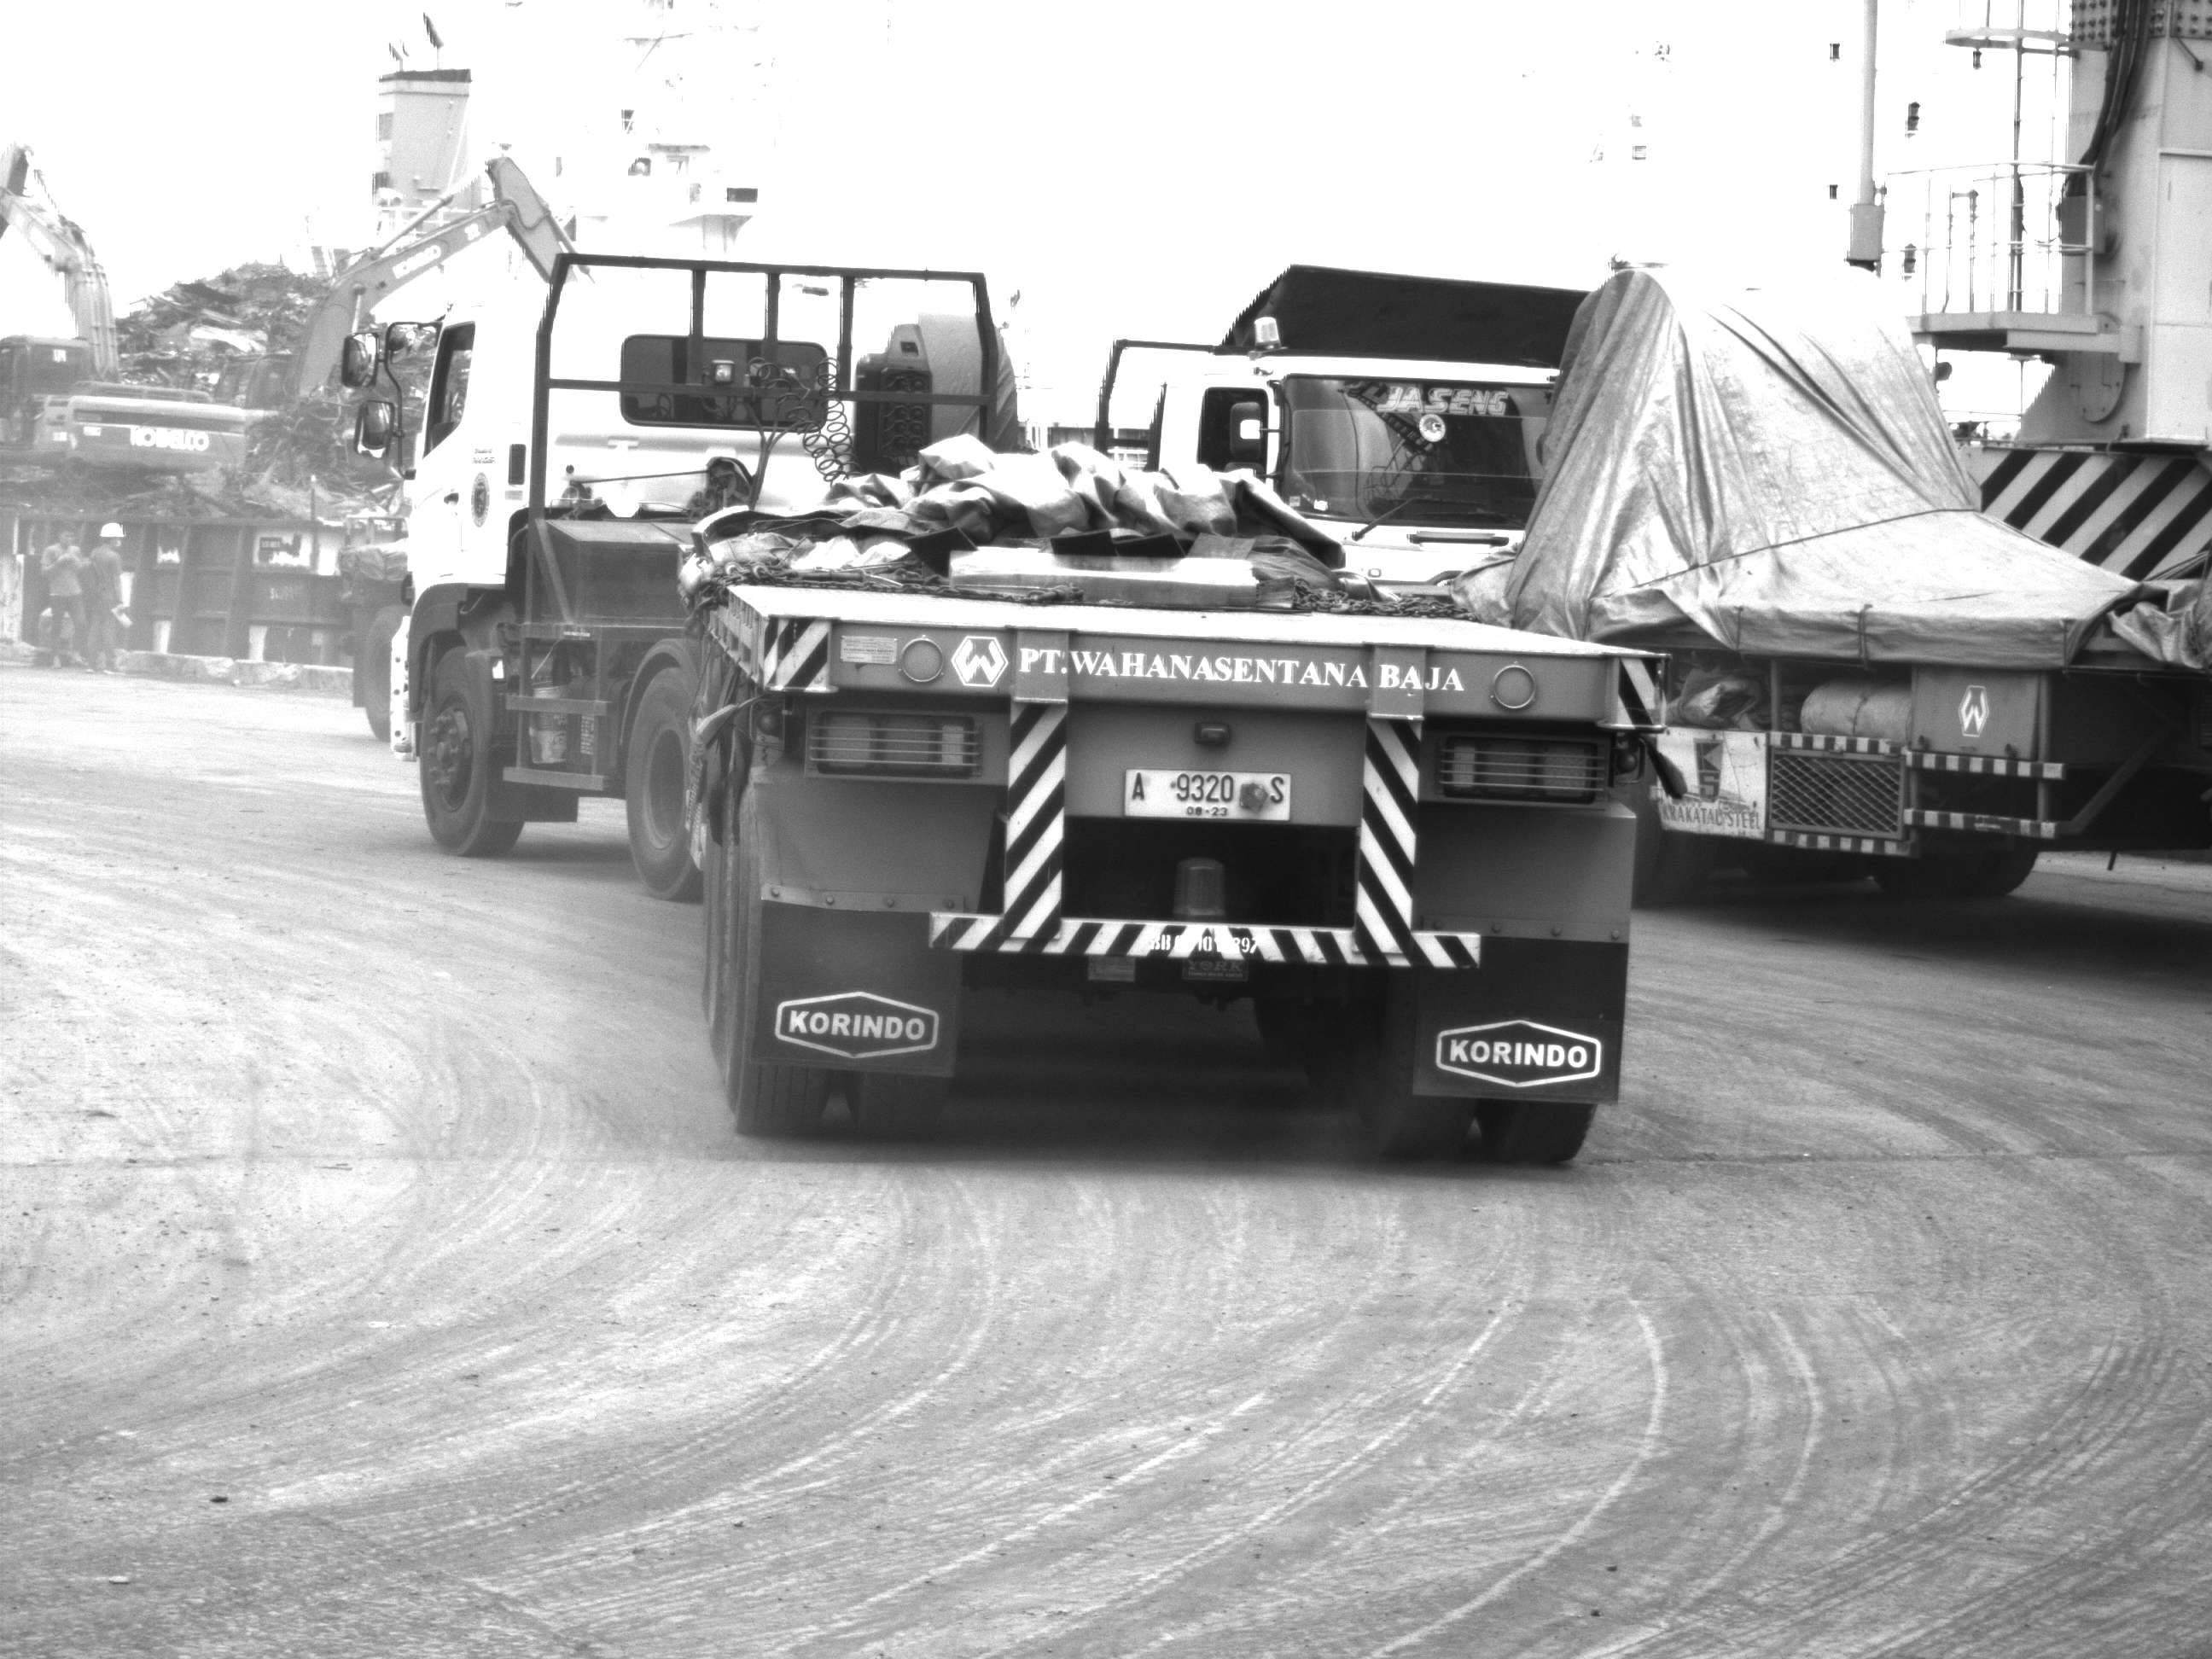day_truck_rear: (731, 587, 1668, 1180)
plate: (1117, 761, 1300, 829)
